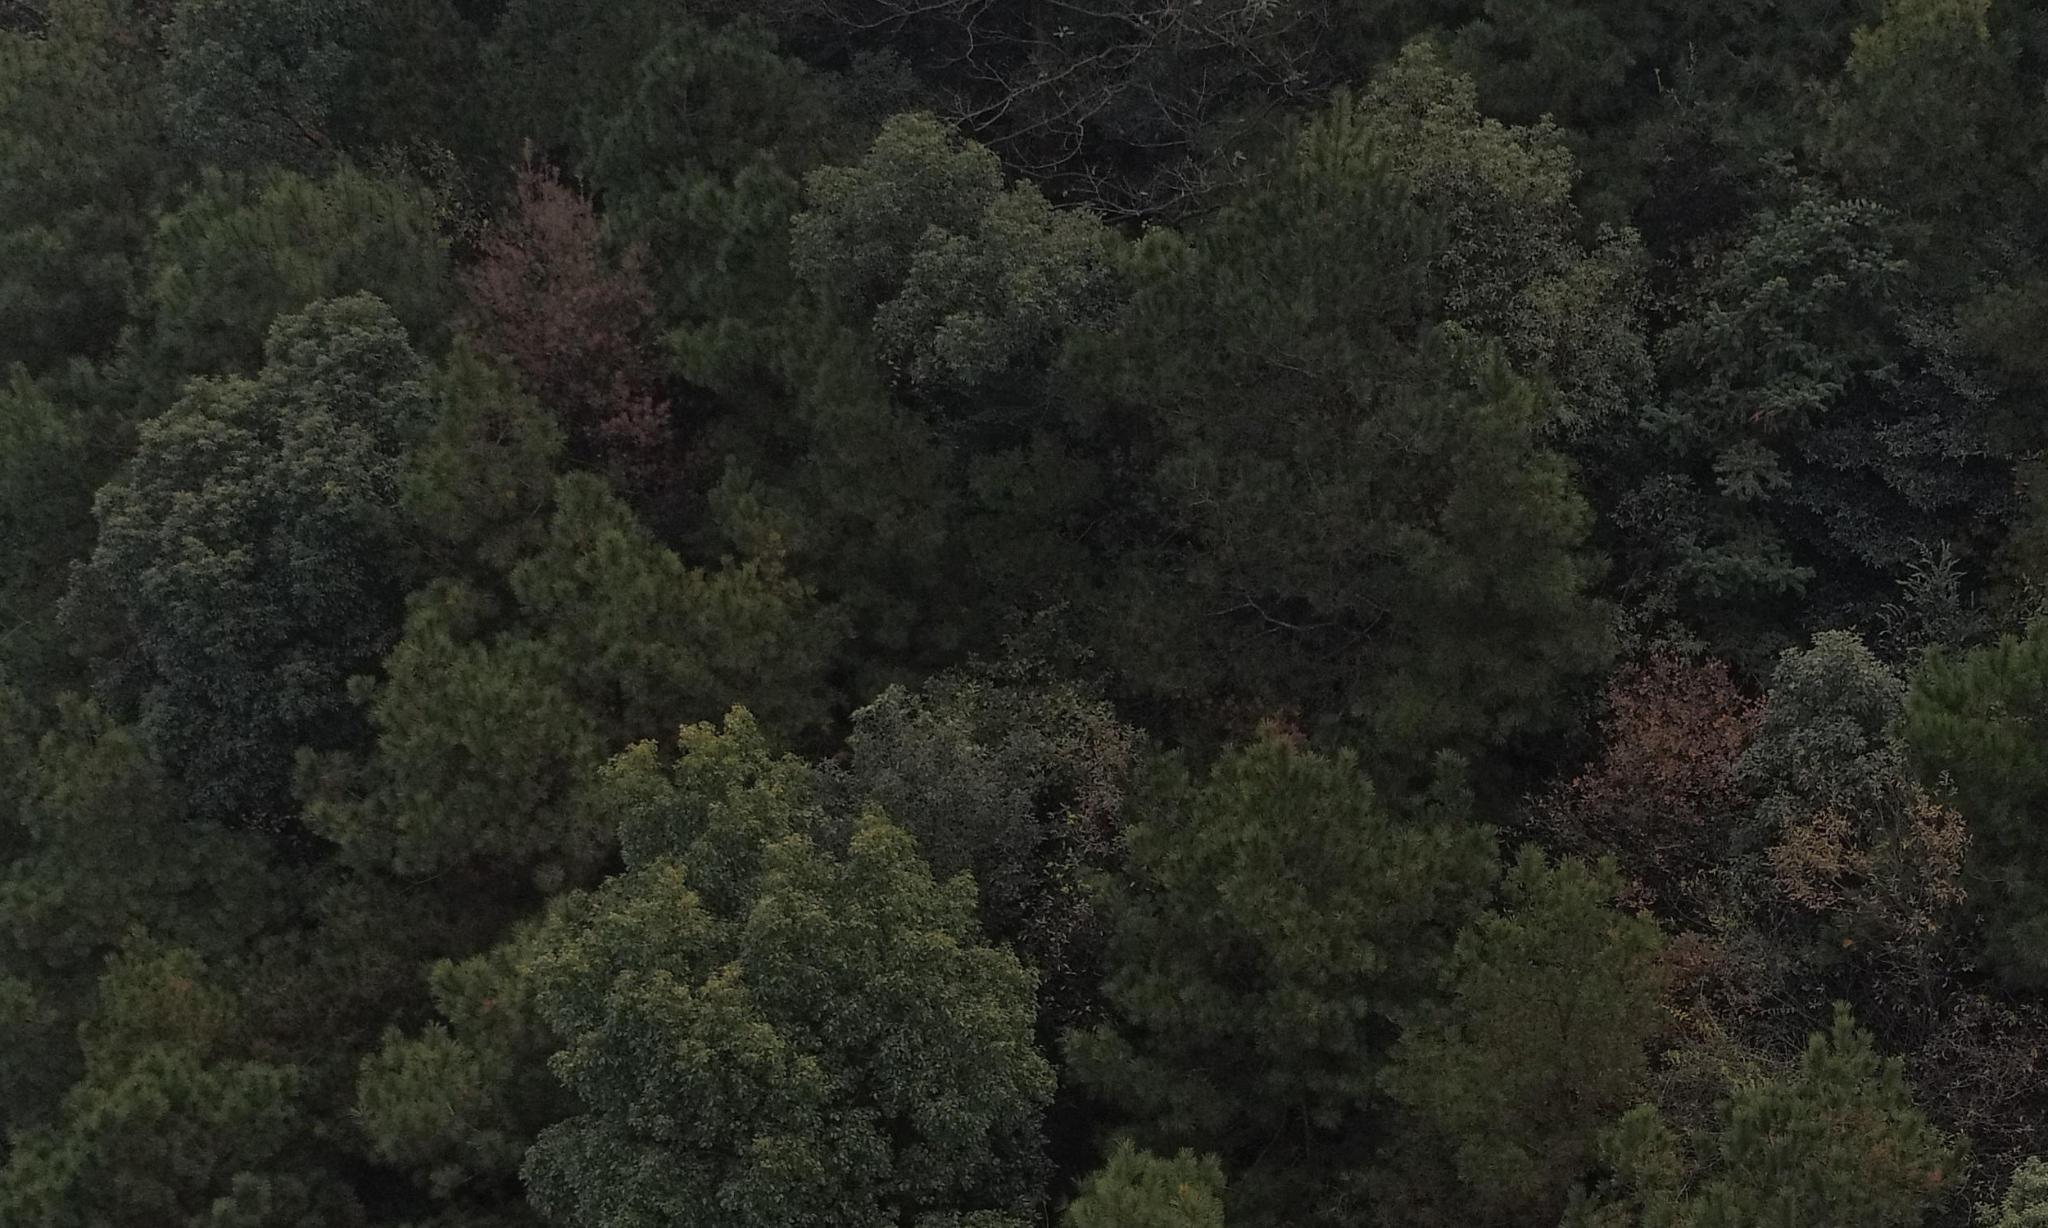heavy: (440, 137, 674, 465)
